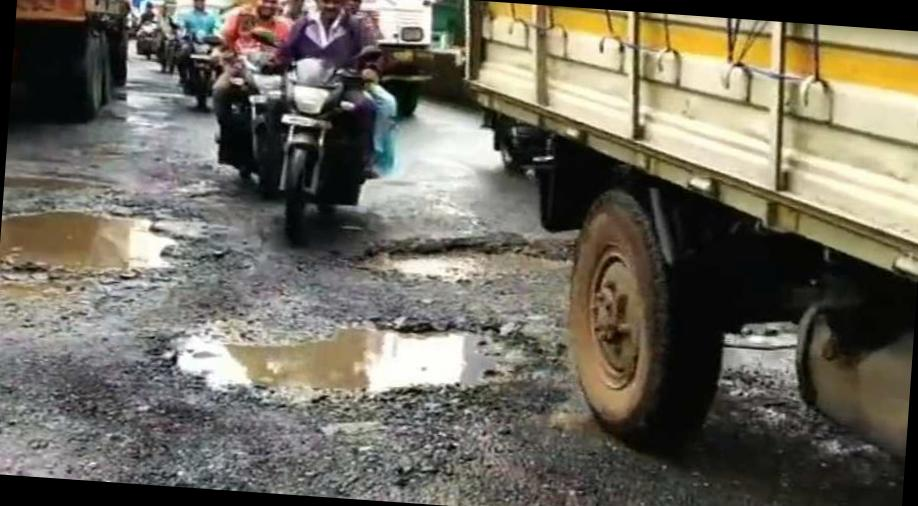pothole: (156, 286, 547, 458), (2, 192, 205, 308), (355, 214, 584, 298)
